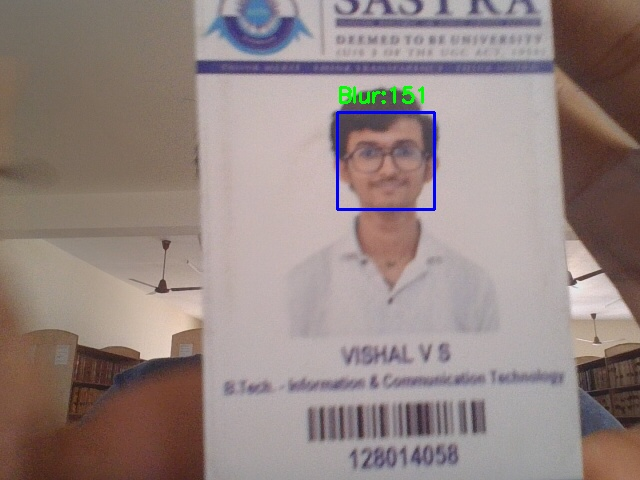fake: (337, 112, 434, 209)
